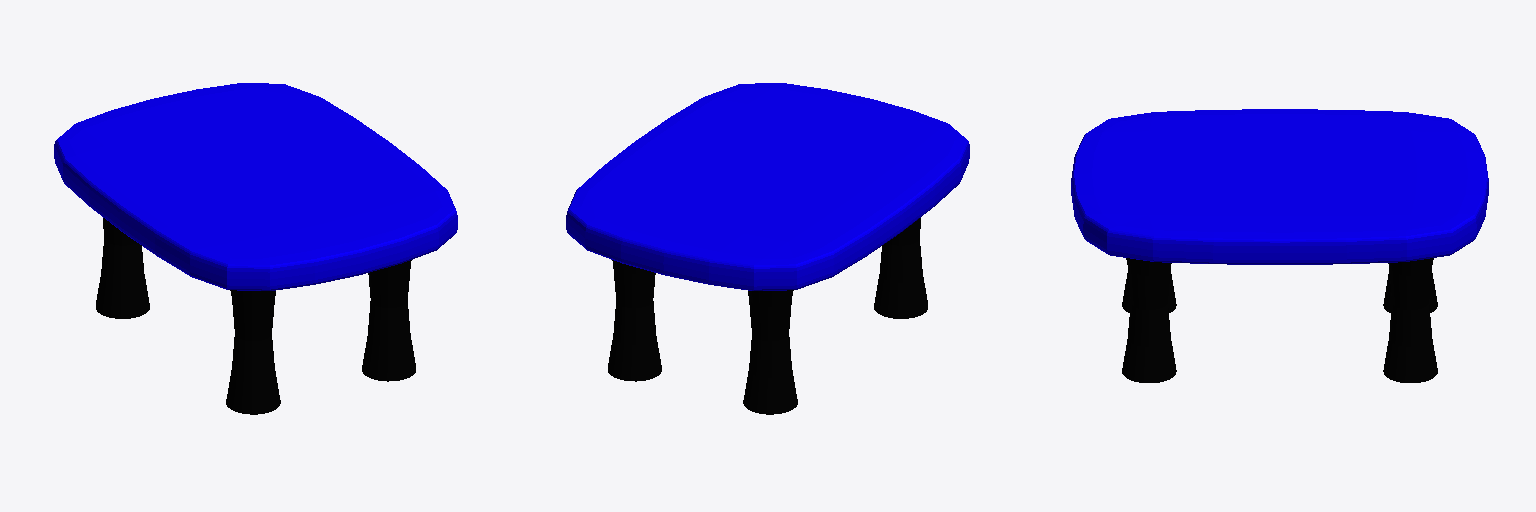
Rendered from Table.obj.
The picture shows the model from 3 angles: view 1: azimuth 30°, elevation 25°; view 2: azimuth 150°, elevation 25°; view 3: azimuth 270°, elevation 25°; orthographic projection.
Visible parts, largest first — view 1: Cylinder_001; view 2: Cylinder_001; view 3: Cylinder_001.
Part boxes in pixels (x1,y1,x2,y2): Cylinder_001: (54,83,457,414); Cylinder_001: (566,83,969,414); Cylinder_001: (1071,109,1488,382).
Bounding box in the file's own units: 120 × 70.01 × 160.